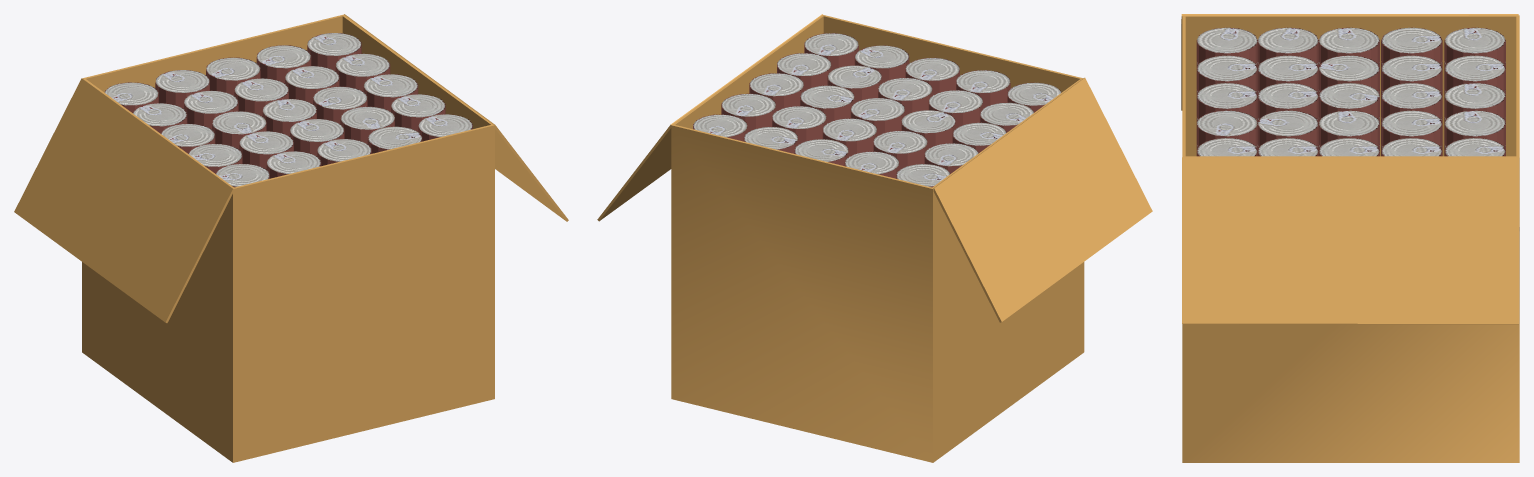
Rendered from BoxWithCans 1.fbx.
3 renders of one model, left to right at view 1: azimuth 30°, elevation 25°; view 2: azimuth 150°, elevation 25°; view 3: azimuth 270°, elevation 25°, orthographic. The views are drawn at different scales.
Visible parts, largest first — view 1: Box, Cans.001, Flap, Flap.001; view 2: Box, Cans.001, Flap, Flap.001; view 3: Box, Flap.001, Cans.001, Flap.
Part boxes in pixels (x1,y1,x2,y2): Box: (82,14,494,462); Cans.001: (104,33,472,187); Flap: (14,78,234,322); Flap.001: (344,14,568,221); Box: (671,15,1084,462); Cans.001: (693,33,1061,187); Flap: (933,77,1152,322); Flap.001: (597,14,822,221); Box: (1182,15,1519,462); Flap.001: (1182,157,1519,324); Cans.001: (1196,27,1505,156); Flap: (1181,14,1518,110).
Bounding box in the file's own units: 154 × 100 × 100.
